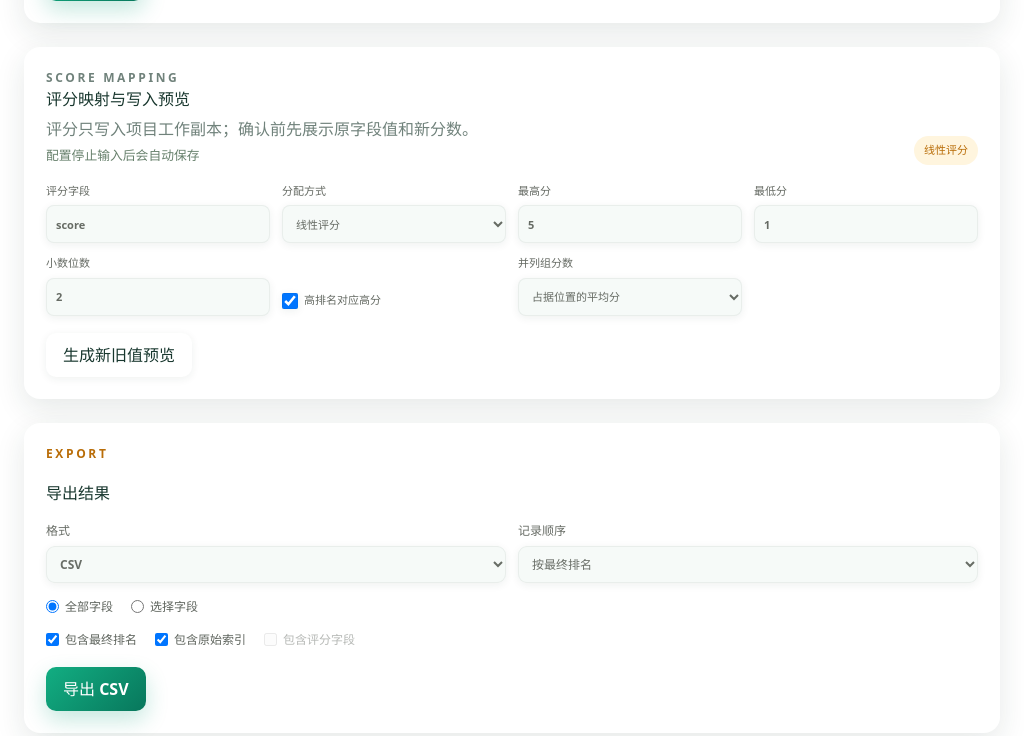
it: ResultWorkspace › 按线性评分设置的小数位数显示预览值
(page scrolled)
Click the button "生成新旧值预览".
click(119, 355)  # box [46,333,192,377]
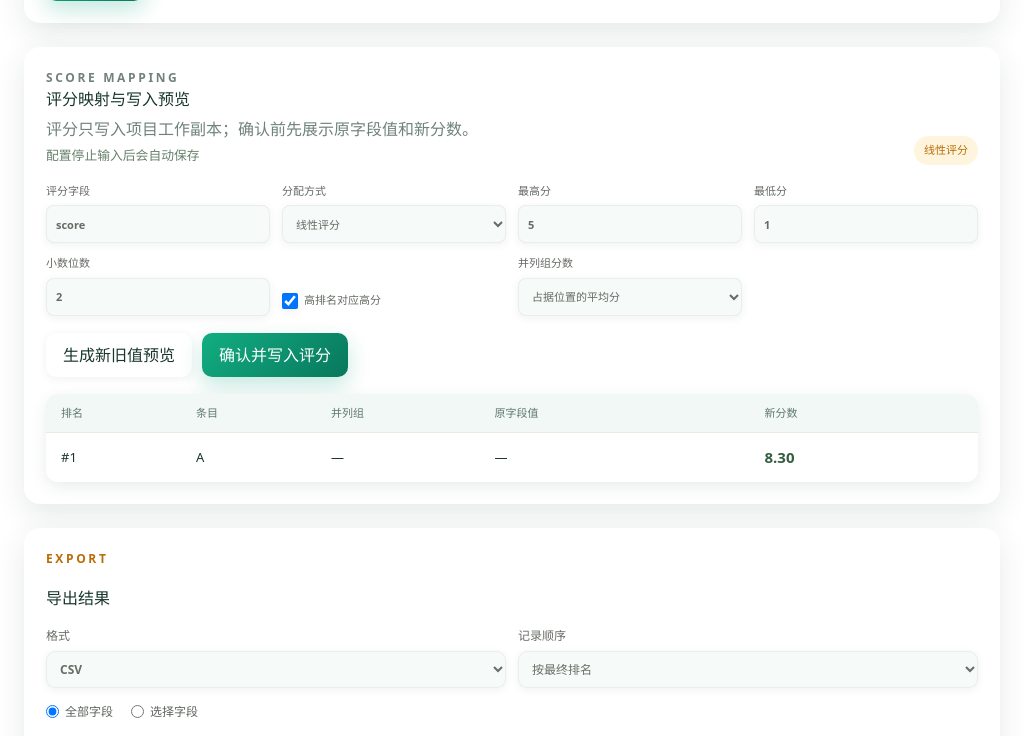
Expected: the text "8.30" is shown, [764,447,794,467]
